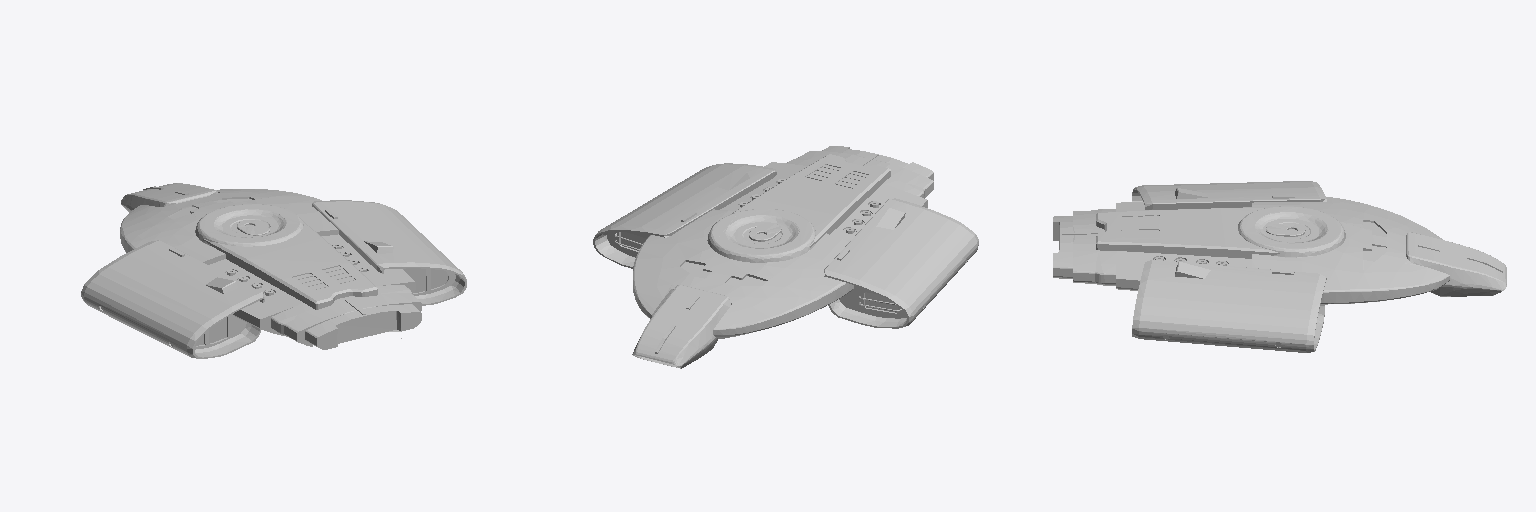
File: defiant-0.125.obj
3 views of the same model, side by side, from view 1: azimuth 30°, elevation 25°; view 2: azimuth 150°, elevation 25°; view 3: azimuth 270°, elevation 25° (orthographic).
Visible parts, largest first — view 1: Antrieb1; view 2: Antrieb1; view 3: Antrieb1.
Boxes of the visible parts, box(x1,y1,x2,y2) form: Antrieb1: box(81, 183, 466, 358); Antrieb1: box(593, 146, 978, 368); Antrieb1: box(1053, 181, 1506, 352).
Size of the model in its own units: 4.14 by 0.7574 by 5.12.